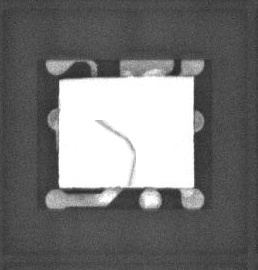DIE_INK: (91, 126, 129, 194)
